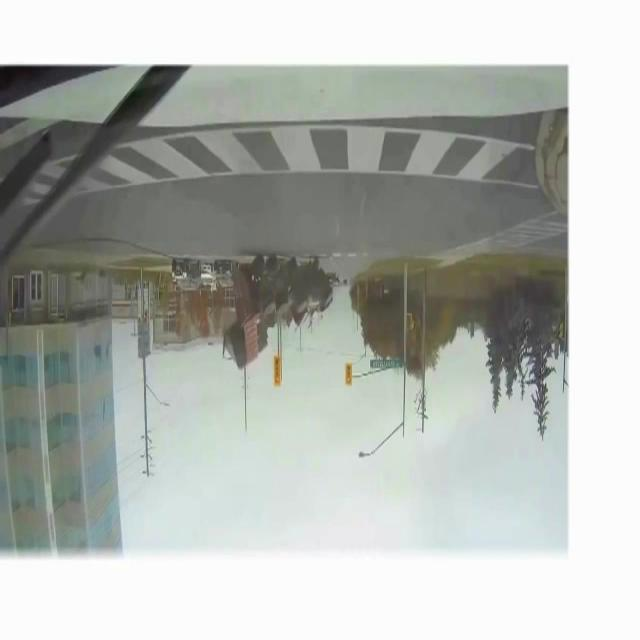person: (215, 240, 339, 372)
